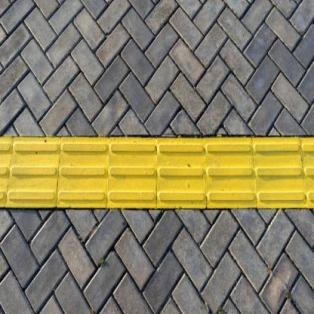Podoctatil: (0, 115, 314, 228)
